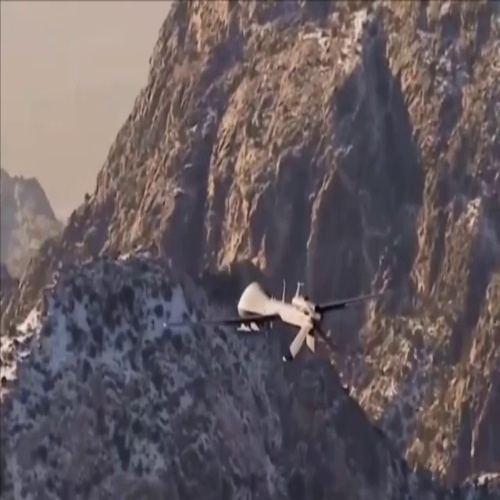uav795: (165, 277, 389, 364)
